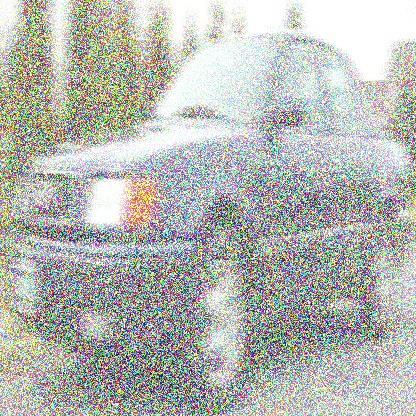Vehicle: (11, 36, 415, 414)
